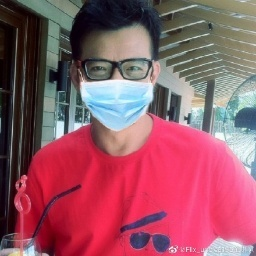correctlyWear: (68, 40, 159, 130)
